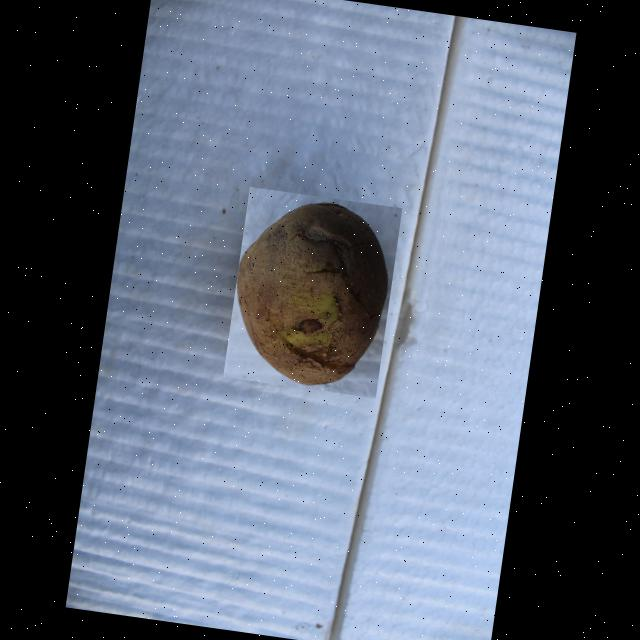Diseased-fungal potato: (222, 186, 401, 398)
